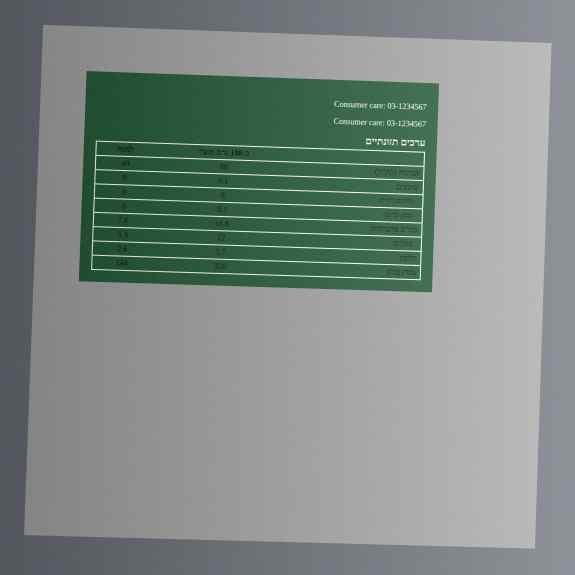carbs: (213, 218, 230, 229)
energy: (218, 161, 229, 172)
fat: (217, 175, 230, 186)
protein: (214, 246, 227, 257)
